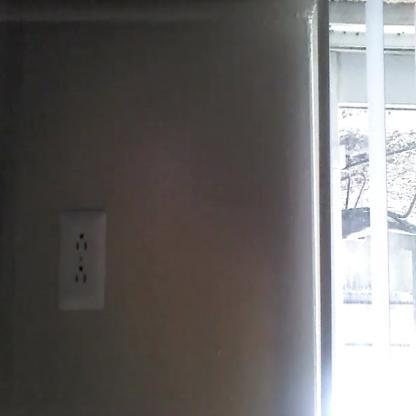OUTLET: (58, 211, 106, 310)
